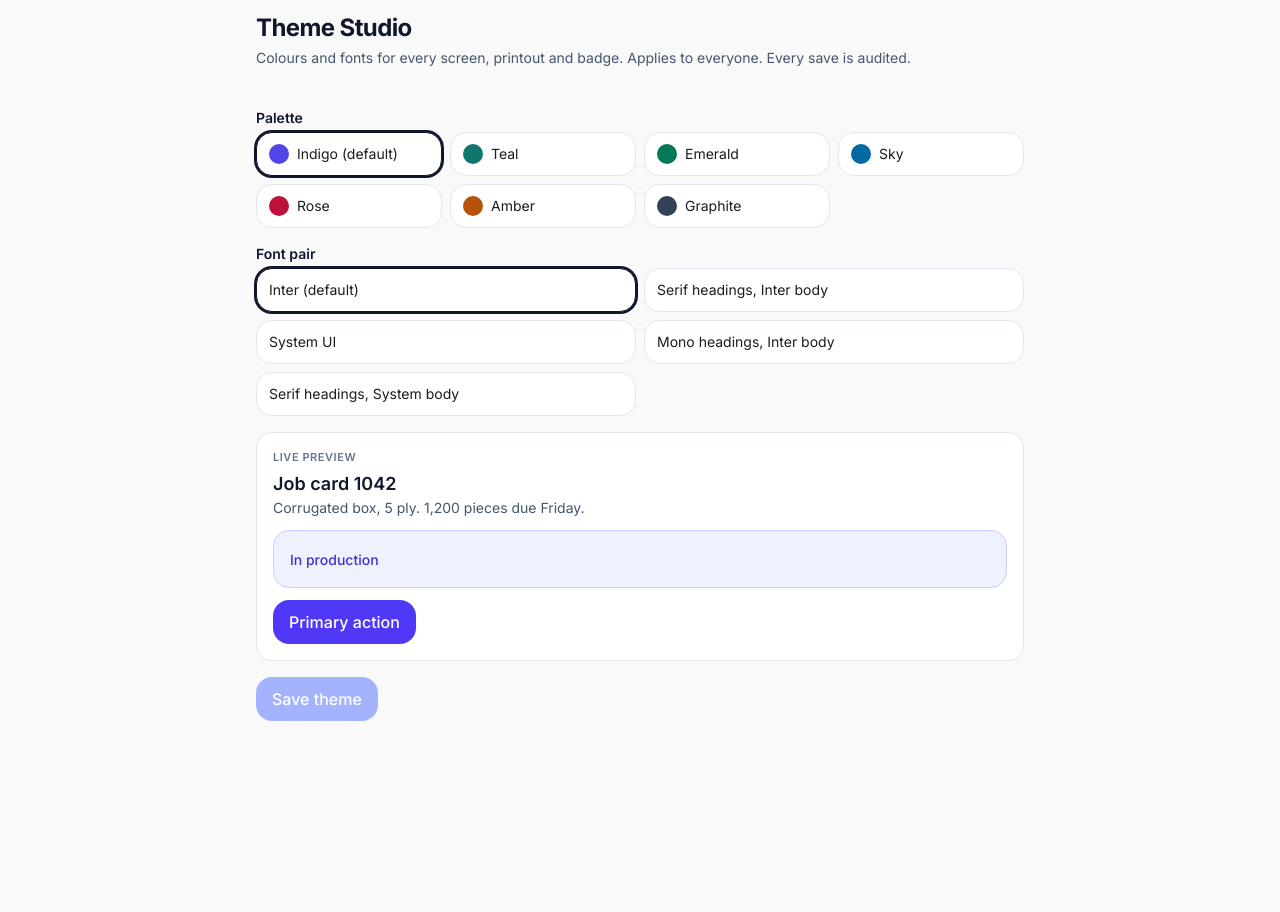
Scenario: Theme Studio save button (R2-389) › is disabled until something changes, disables again after a successful save, and re-enables on a new change
This screenshot has width=1280, height=912.
Expected: the button "Save theme" is disabled, [256,676,378,720]
Click the button "Teal". click: {"x": 543, "y": 154}
box: [450,132,636,176]
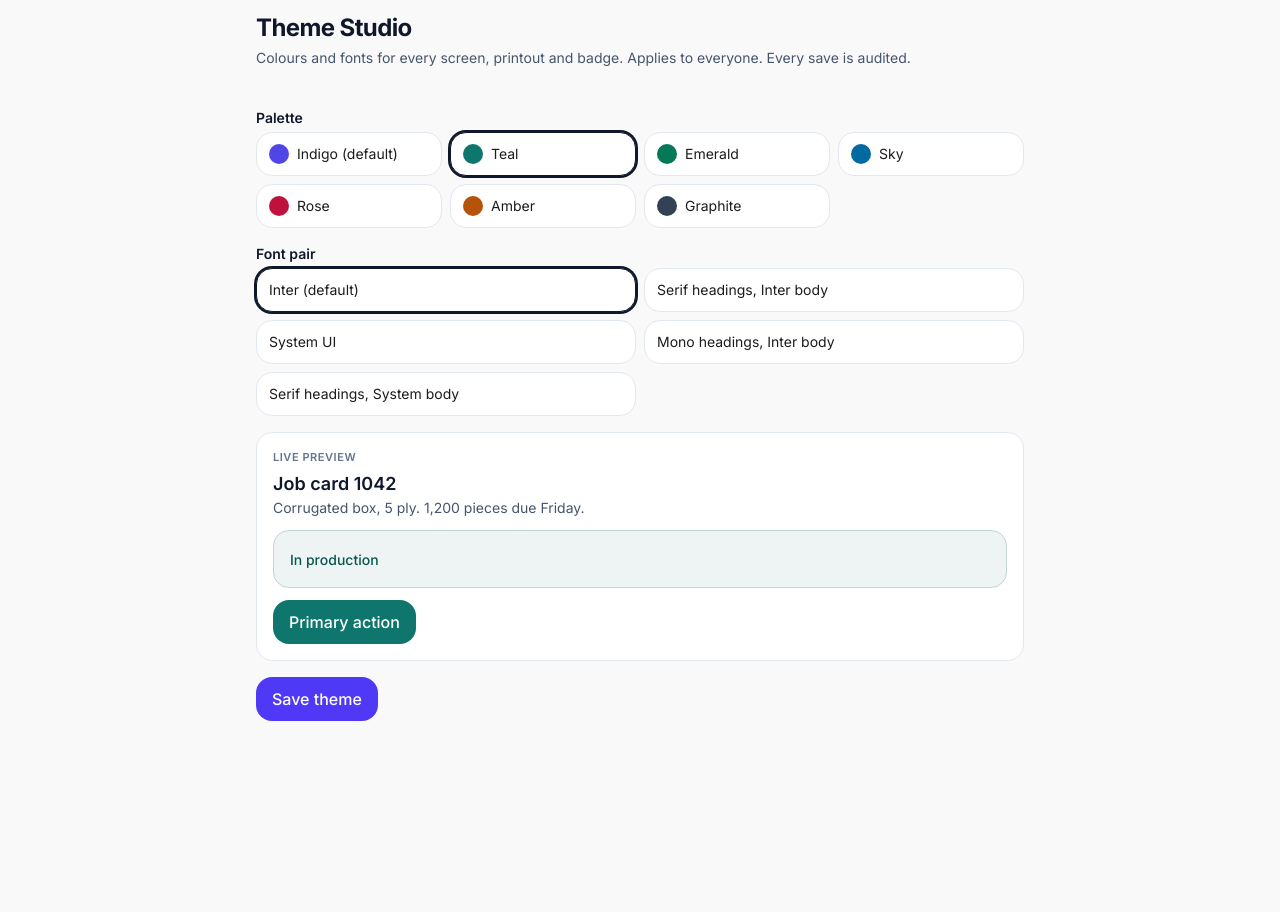
Now the button "Save theme" is enabled
Click the button "Save theme". click: {"x": 317, "y": 698}
box: [256,676,378,720]
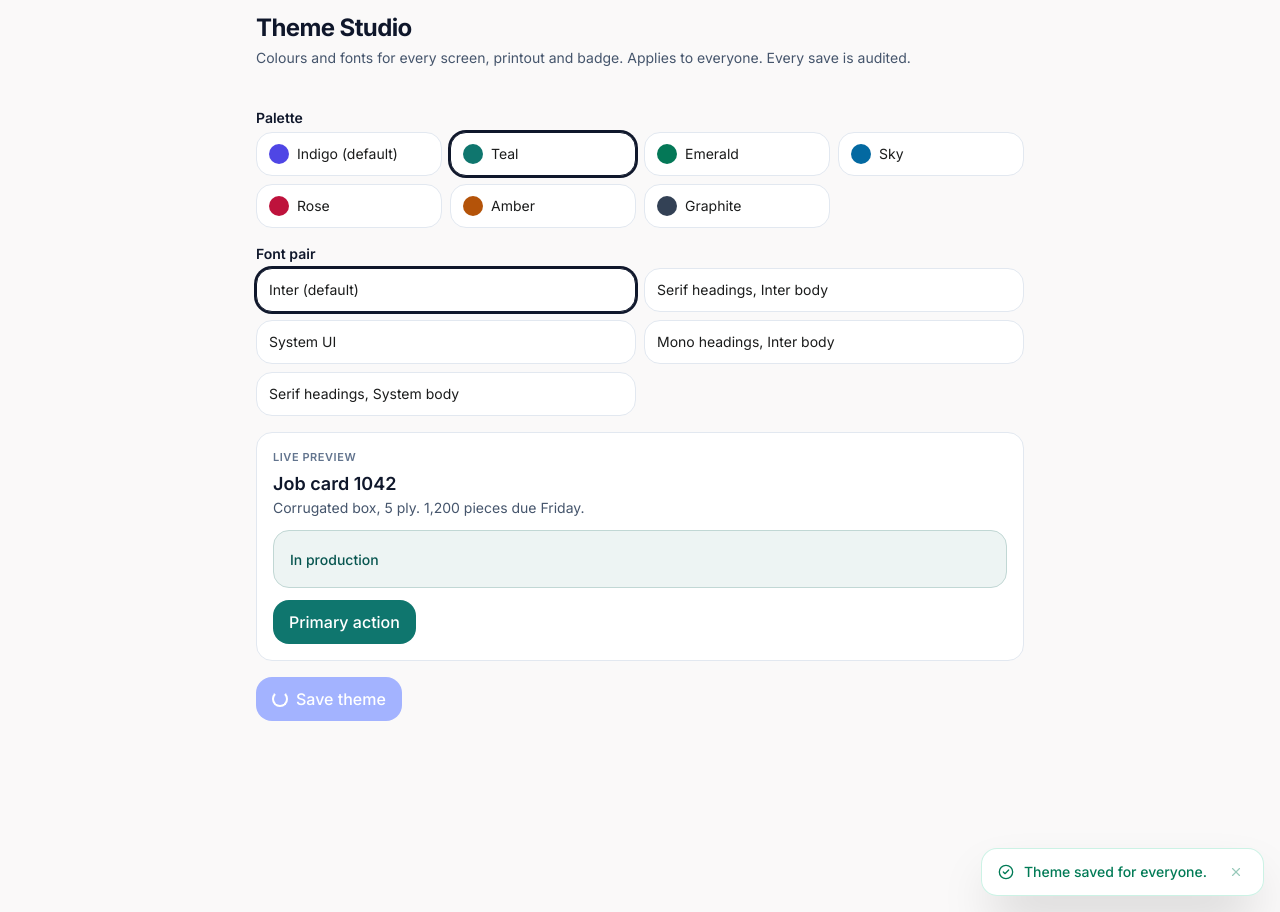
Now the button "Save theme" is disabled, box [256,676,402,720]
Click the button "Rose". click: {"x": 349, "y": 206}
box: [256,184,442,228]
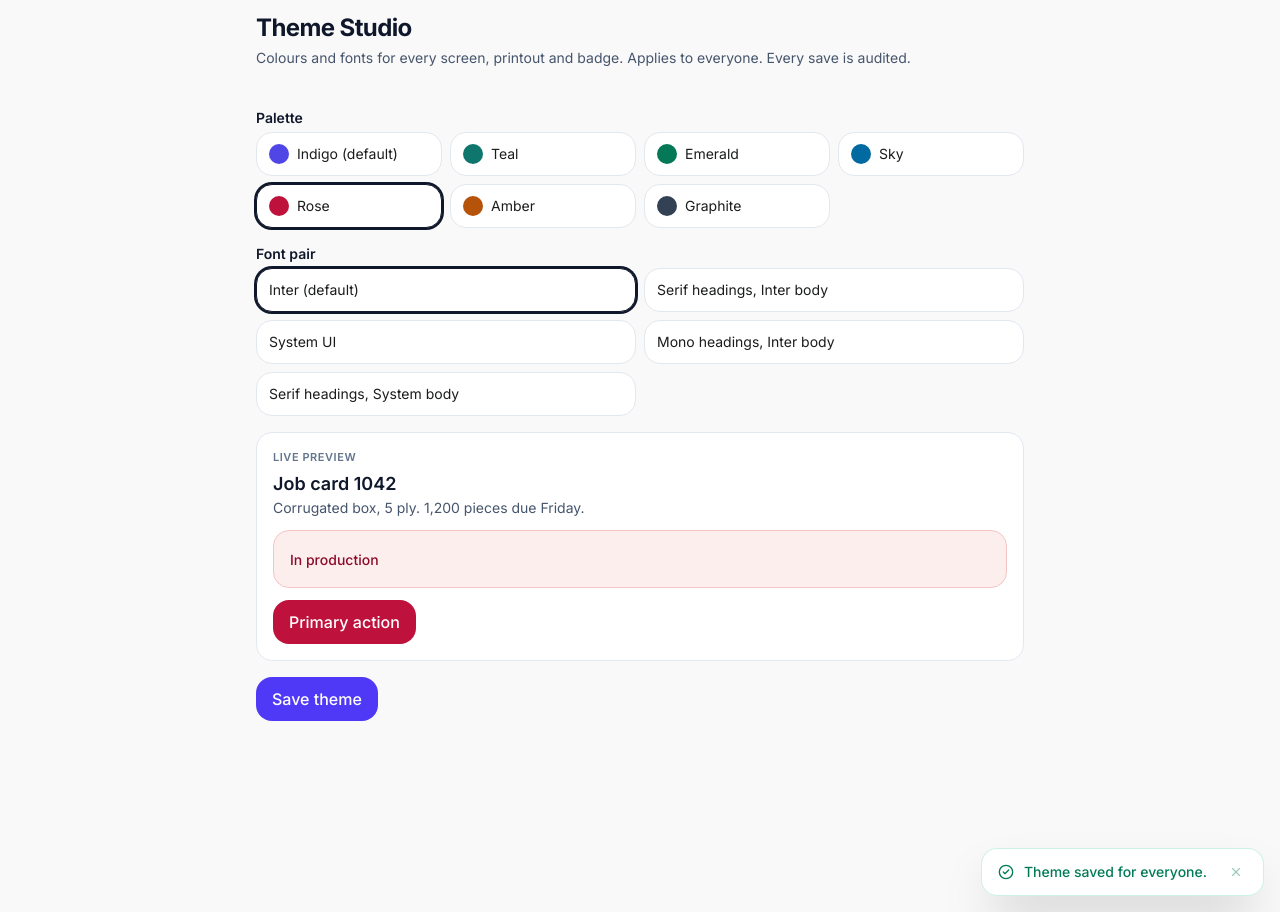
Now the button "Save theme" is enabled, box [256,676,378,720]
